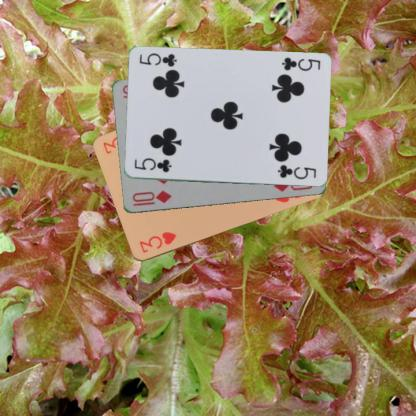10d: (130, 188, 172, 208)
3h: (136, 229, 178, 255)
5c: (132, 155, 172, 174), (279, 55, 321, 73)
